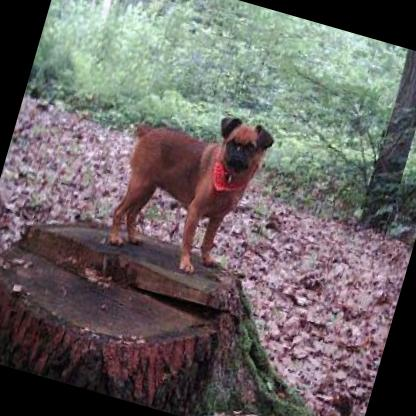Brabancon_griffon: (99, 88, 279, 288)
